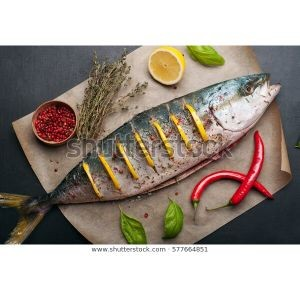tuna_brain food: (31, 74, 282, 226)
